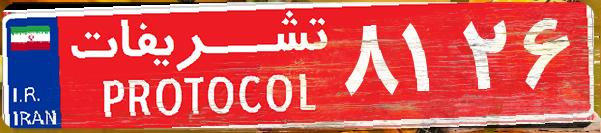1: (400, 20, 460, 115)
2: (460, 20, 520, 115)
6: (520, 20, 580, 115)
8: (340, 20, 400, 115)
تشریفات: (60, 8, 340, 125)
